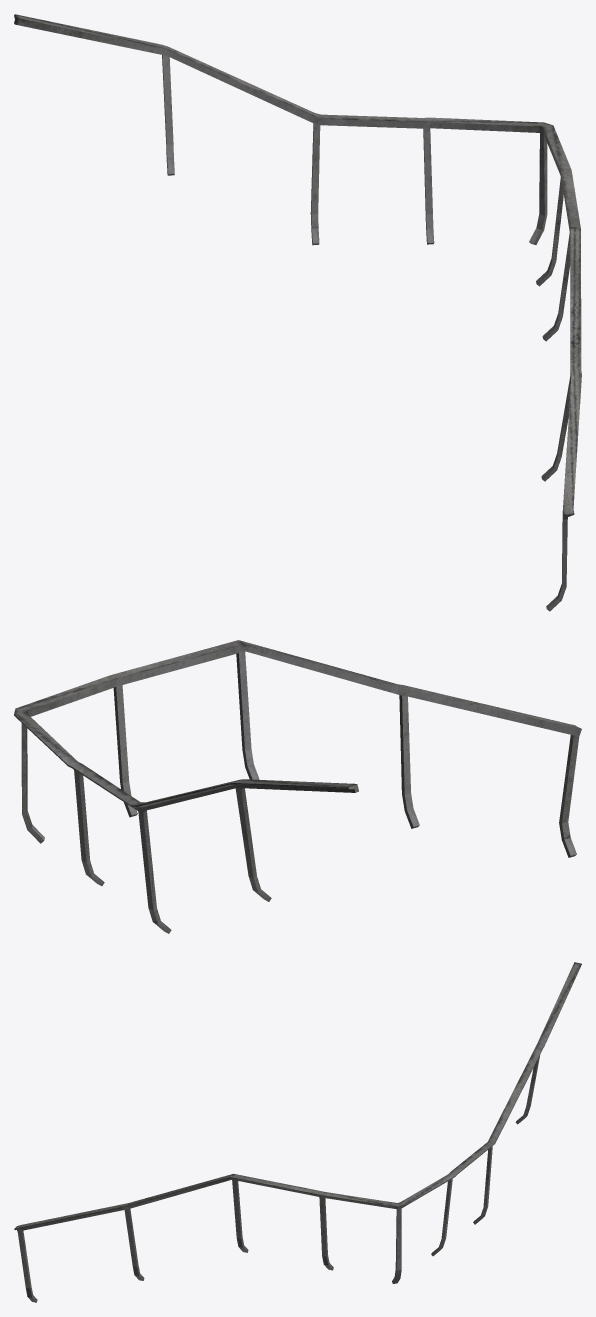
The picture shows the model from 3 angles, top to bottom: view 1: azimuth 30°, elevation 25°; view 2: azimuth 150°, elevation 25°; view 3: azimuth 270°, elevation 25°; orthographic projection. The views are drawn at different scales.
Parts seen in each view (by area): view 1: Cube.023; view 2: Cube.023; view 3: Cube.023.
Part boxes in pixels (<box>): Cube.023: <box>14,14,581,611</box>; Cube.023: <box>14,640,581,933</box>; Cube.023: <box>14,962,581,1302</box>.
Bounding box in the file's own units: 671 × 565 × 1049.
